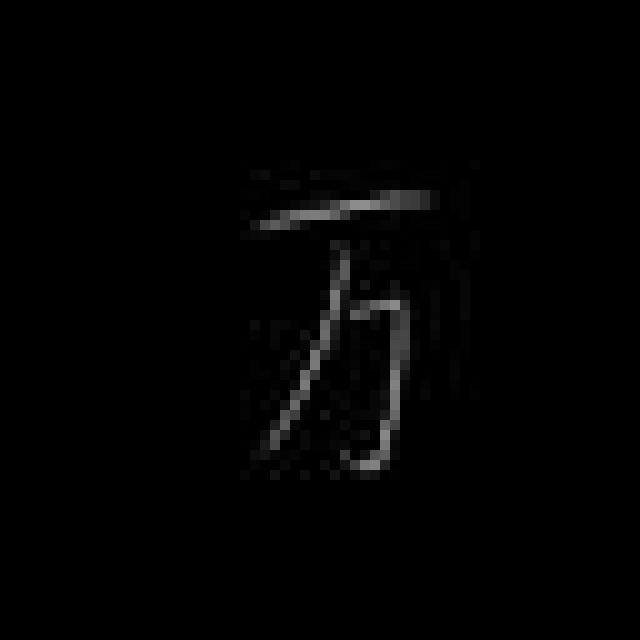10000 -a ten thousand-: (247, 171, 440, 492)
